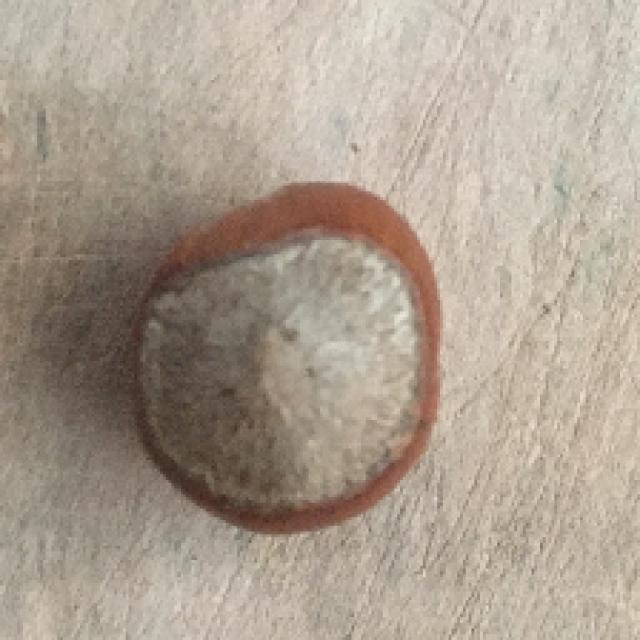qualityHazelnut: (125, 180, 442, 539)
